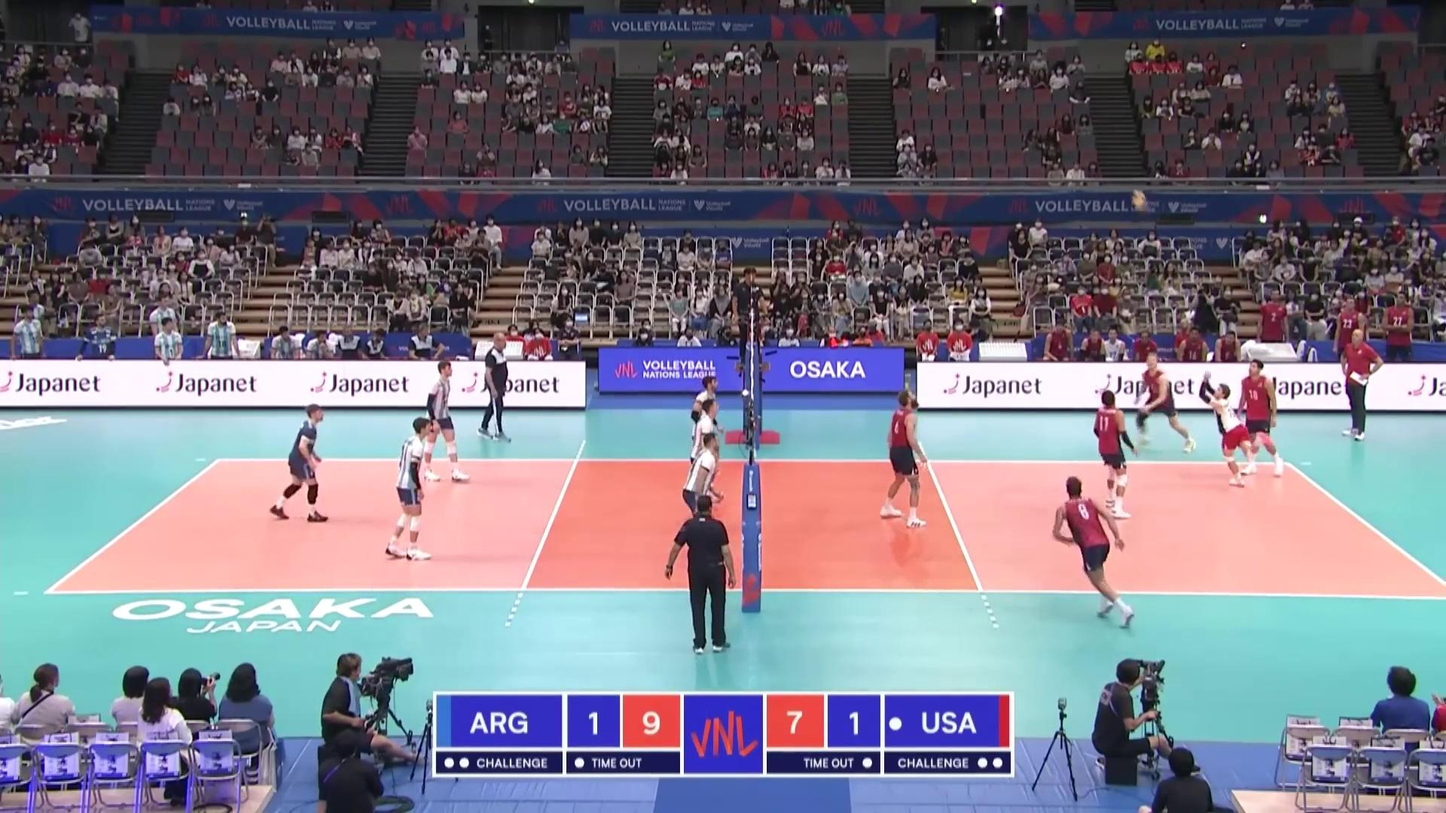player: (1052, 477, 1134, 626), (1200, 375, 1269, 491), (385, 417, 435, 560), (1133, 351, 1198, 456), (272, 403, 328, 522), (882, 389, 928, 532), (419, 360, 472, 483), (1091, 391, 1136, 518), (1236, 360, 1284, 479), (682, 432, 722, 557), (686, 375, 723, 478), (688, 400, 718, 515)
refree: (665, 496, 733, 655), (729, 264, 768, 369)
